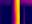Hotspot: (15, 0, 20, 23)
